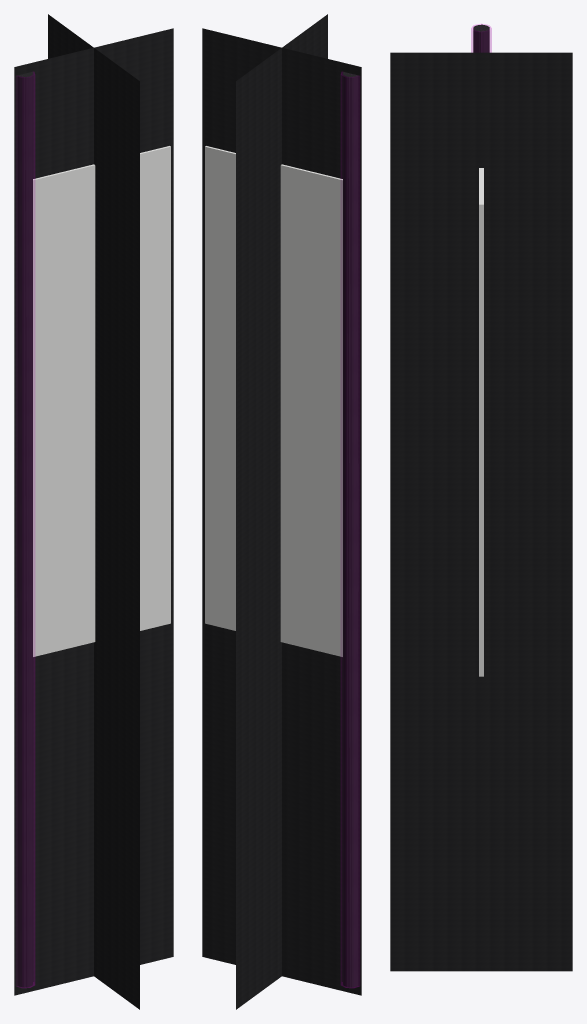
File: featherflag_blank_white.dae
The picture shows the model from 3 angles, left to right: view 1: azimuth 30°, elevation 25°; view 2: azimuth 150°, elevation 25°; view 3: azimuth 270°, elevation 25°; orthographic projection.
Visible parts, largest first — view 1: featherflag_blank_white_a50, featherflag_blank_white_a800, Colmesh_pole-1, featherflag_blank_white_a200; view 2: featherflag_blank_white_a50, featherflag_blank_white_a800, Colmesh_pole-1, featherflag_blank_white_a200; view 3: featherflag_blank_white_a50, featherflag_blank_white_a800.
Part boxes in pixels (<box>): featherflag_blank_white_a50: <box>14,14,173,1009</box>; featherflag_blank_white_a800: <box>18,72,170,987</box>; Colmesh_pole-1: <box>16,72,34,987</box>; featherflag_blank_white_a200: <box>17,72,32,987</box>; featherflag_blank_white_a50: <box>202,14,361,1009</box>; featherflag_blank_white_a800: <box>205,72,357,987</box>; Colmesh_pole-1: <box>341,72,359,987</box>; featherflag_blank_white_a200: <box>344,73,358,987</box>; featherflag_blank_white_a50: <box>390,52,572,971</box>; featherflag_blank_white_a800: <box>473,25,489,676</box>.
Bounding box in the file's own units: 0.77 × 0.77 × 4.28.
Materials: 3 (2 with a texture image).
